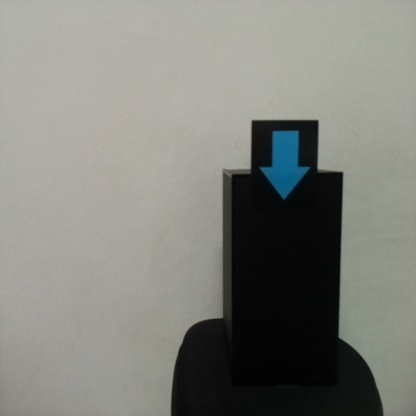id_2: (251, 122, 319, 211)
